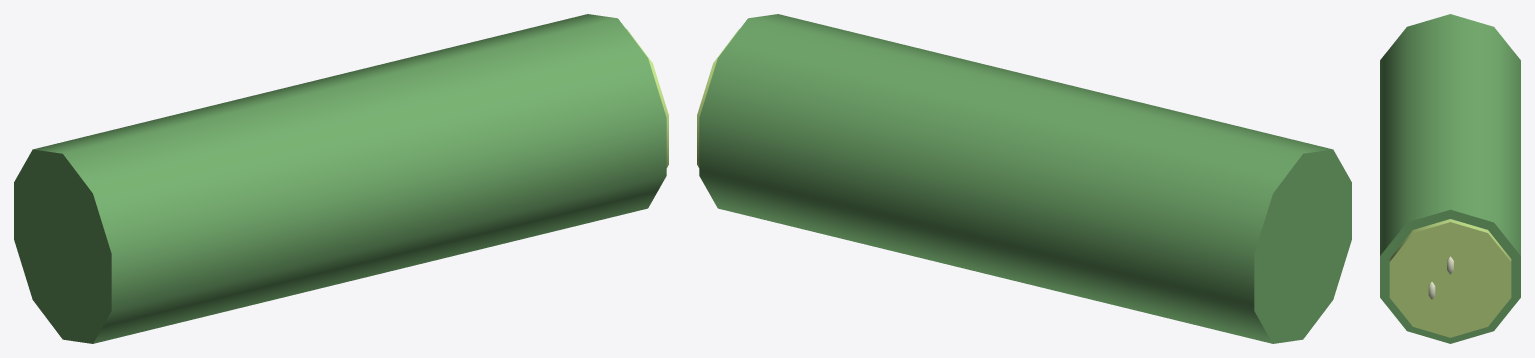
Rendered from cucumber.glb.
3 views of the same model, side by side, from view 1: azimuth 30°, elevation 25°; view 2: azimuth 150°, elevation 25°; view 3: azimuth 270°, elevation 25° (orthographic). The views are drawn at different scales.
Visible parts, largest first — view 1: skin; view 2: skin; view 3: skin, cut_face.
Boxes of the visible parts, <box> form: skin: <box>14,14,666,343</box>; skin: <box>699,14,1351,343</box>; skin: <box>1380,14,1520,343</box>; cut_face: <box>1389,219,1511,337</box>.
Bounding box in the file's own units: 0.513 × 0.16 × 0.1522.
